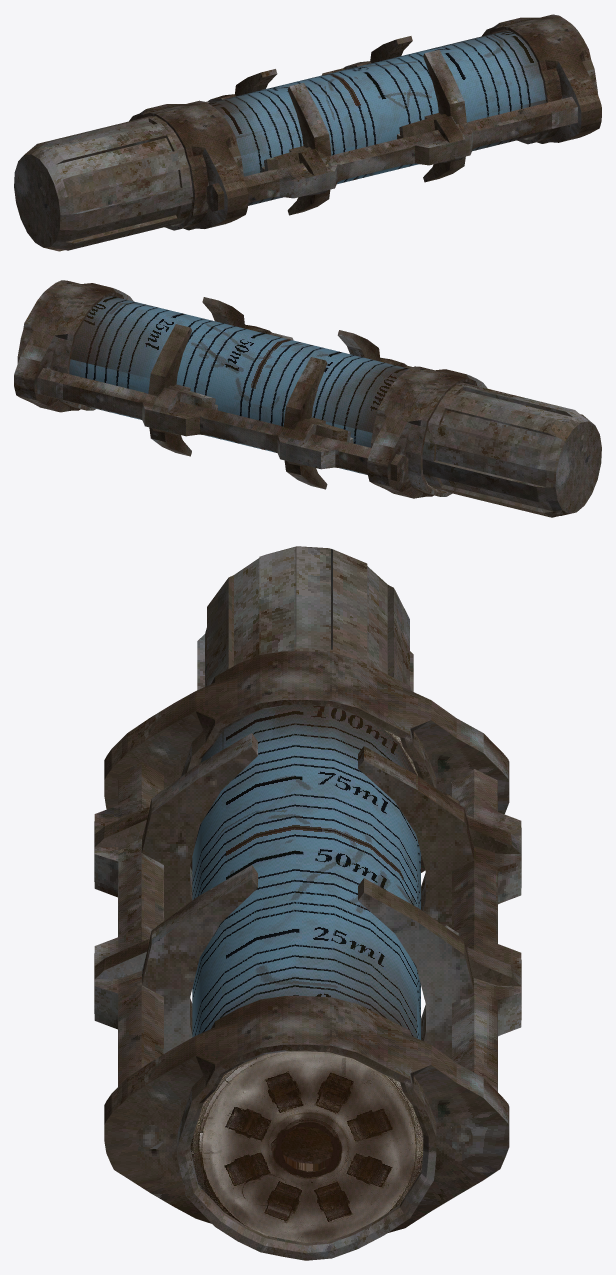
The model's file is mp_adrenaline1.glb.
3 views of the same model, one above another, from view 1: azimuth 30°, elevation 25°; view 2: azimuth 150°, elevation 25°; view 3: azimuth 270°, elevation 25° (orthographic). The views are drawn at different scales.
Parts seen in each view (by area): view 1: adrenaline main parent, adrenaline cap; view 2: adrenaline main parent, adrenaline cap; view 3: adrenaline main parent, adrenaline cap.
Part boxes in pixels (bbox=[...]): adrenaline main parent: bbox=[129, 14, 601, 230]; adrenaline cap: bbox=[14, 116, 192, 251]; adrenaline main parent: bbox=[14, 280, 487, 498]; adrenaline cap: bbox=[422, 382, 601, 517]; adrenaline main parent: bbox=[94, 651, 521, 1260]; adrenaline cap: bbox=[197, 546, 413, 691].
Bounding box in the file's own units: 3.03 × 0.7421 × 1.06.
Materials: 5 (4 with a texture image).
